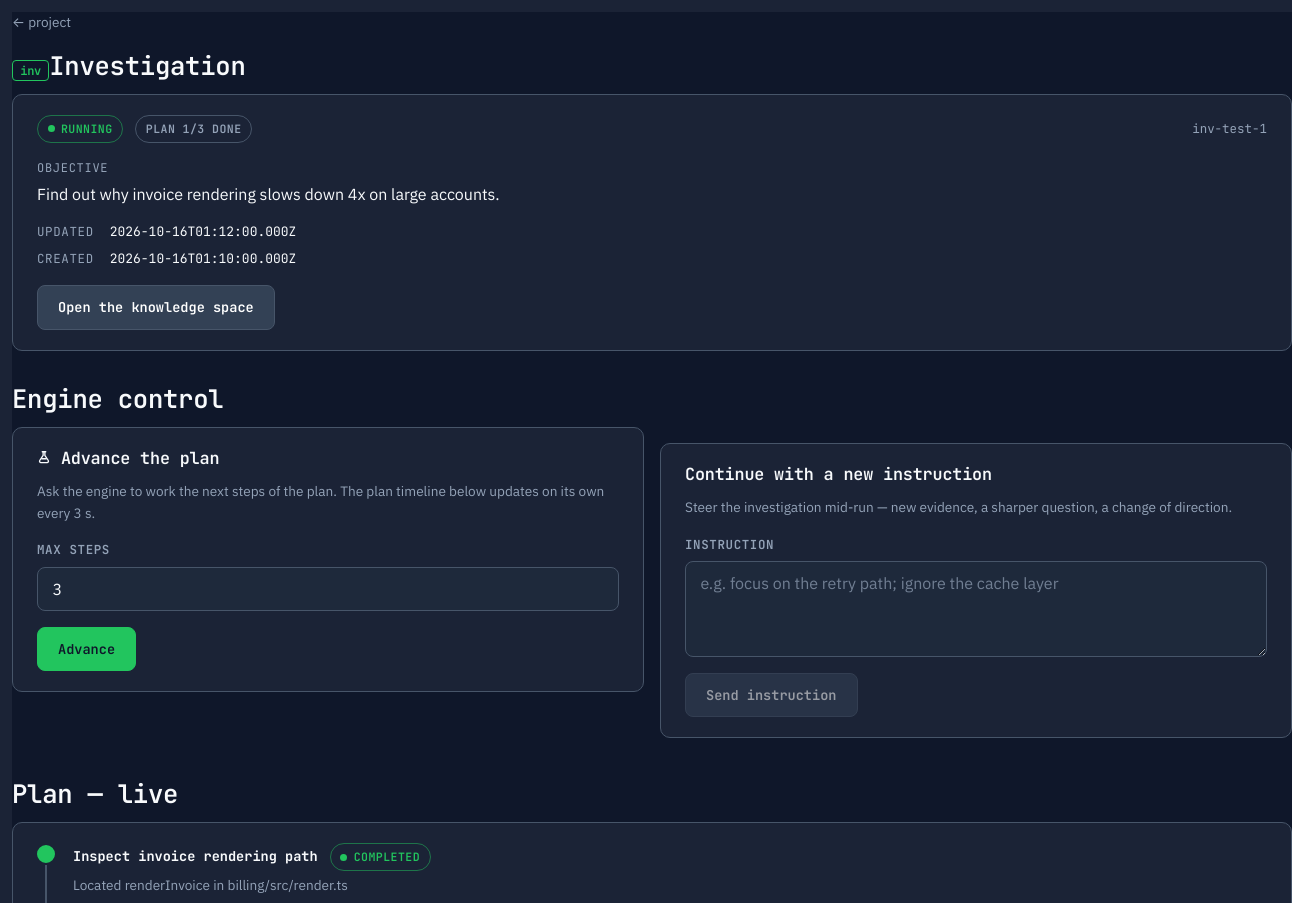
Test: InvestigationPage › surfaces the engine's own 501 when /continue is not implemented
The image size is (1292, 903).
Check: the text "why invoice rendering slows down" is shown, box [37,184,500,204]
Type "focus on the retry path" into the text box labelled "Instruction" at (976, 609), box [685,561,1267,657]
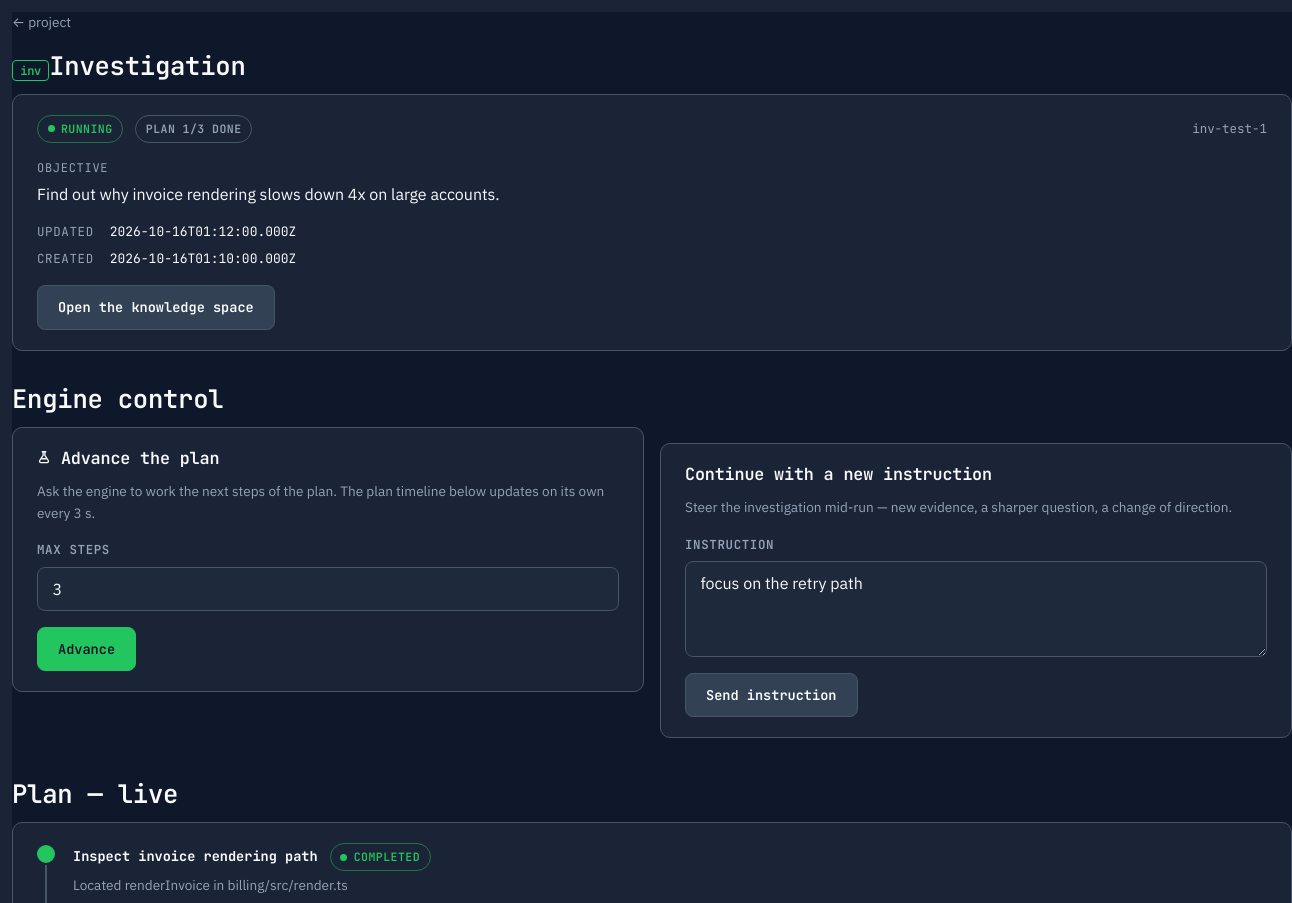
Submit the form named "Continue with a new instruction", box [660,443,1291,738]
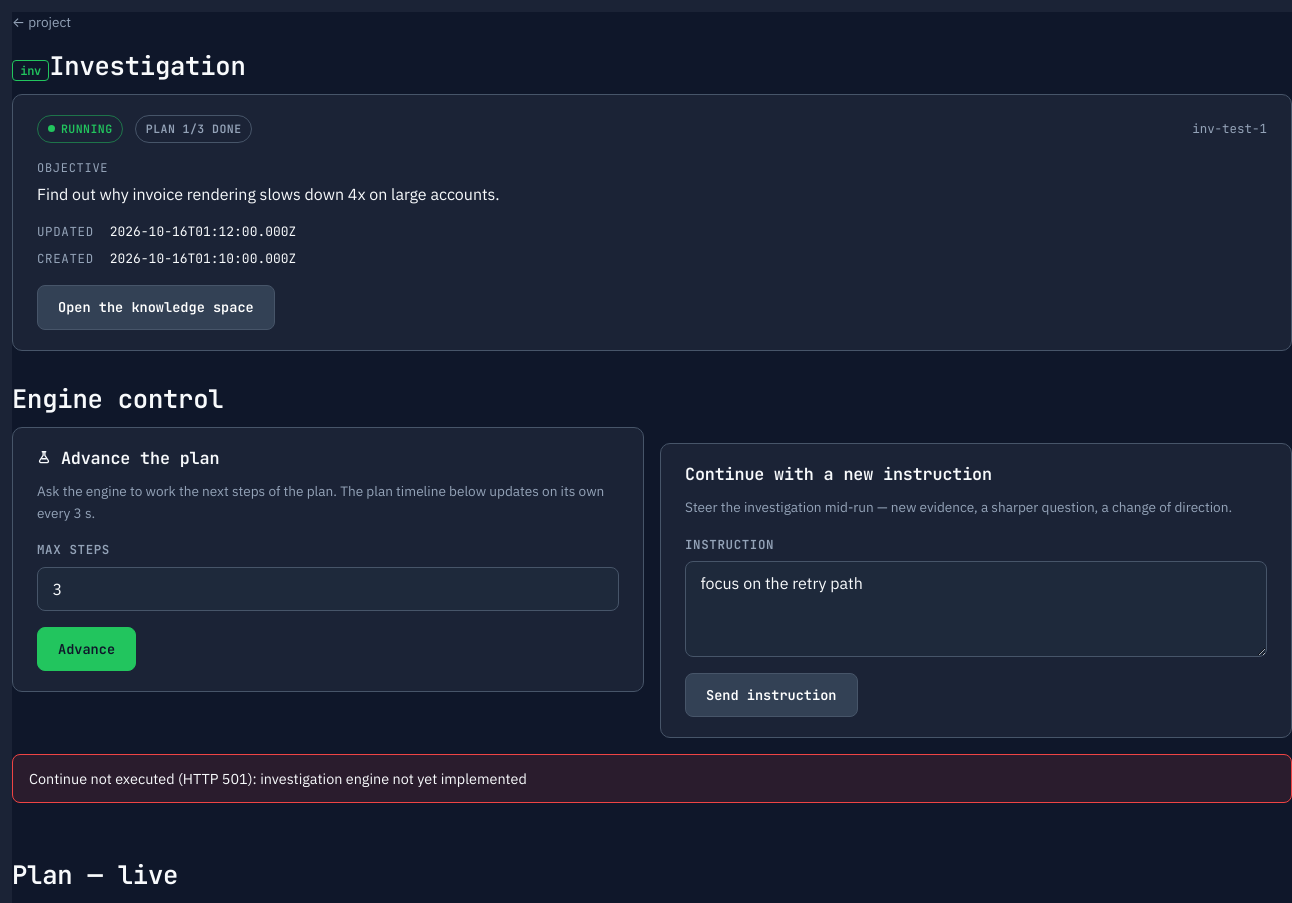
Check: the text "Continue not executed (HTTP 501): investigation engine not yet implemented" is shown, box [12,754,1291,803]
